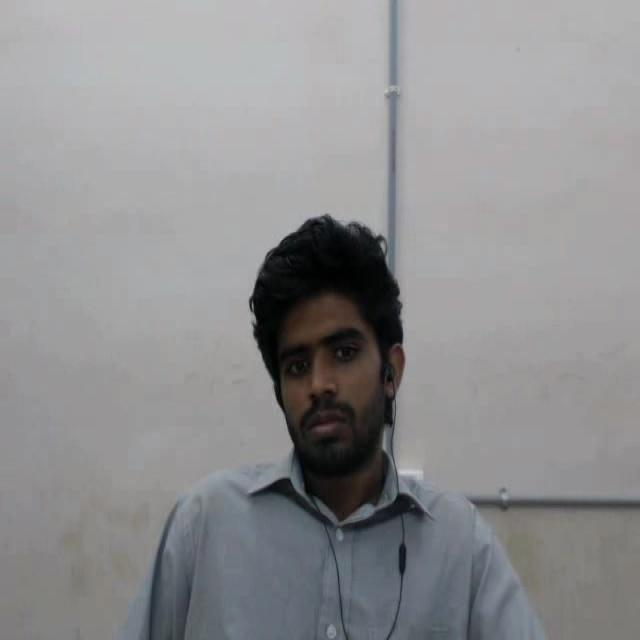Engaged: (232, 196, 436, 542)
